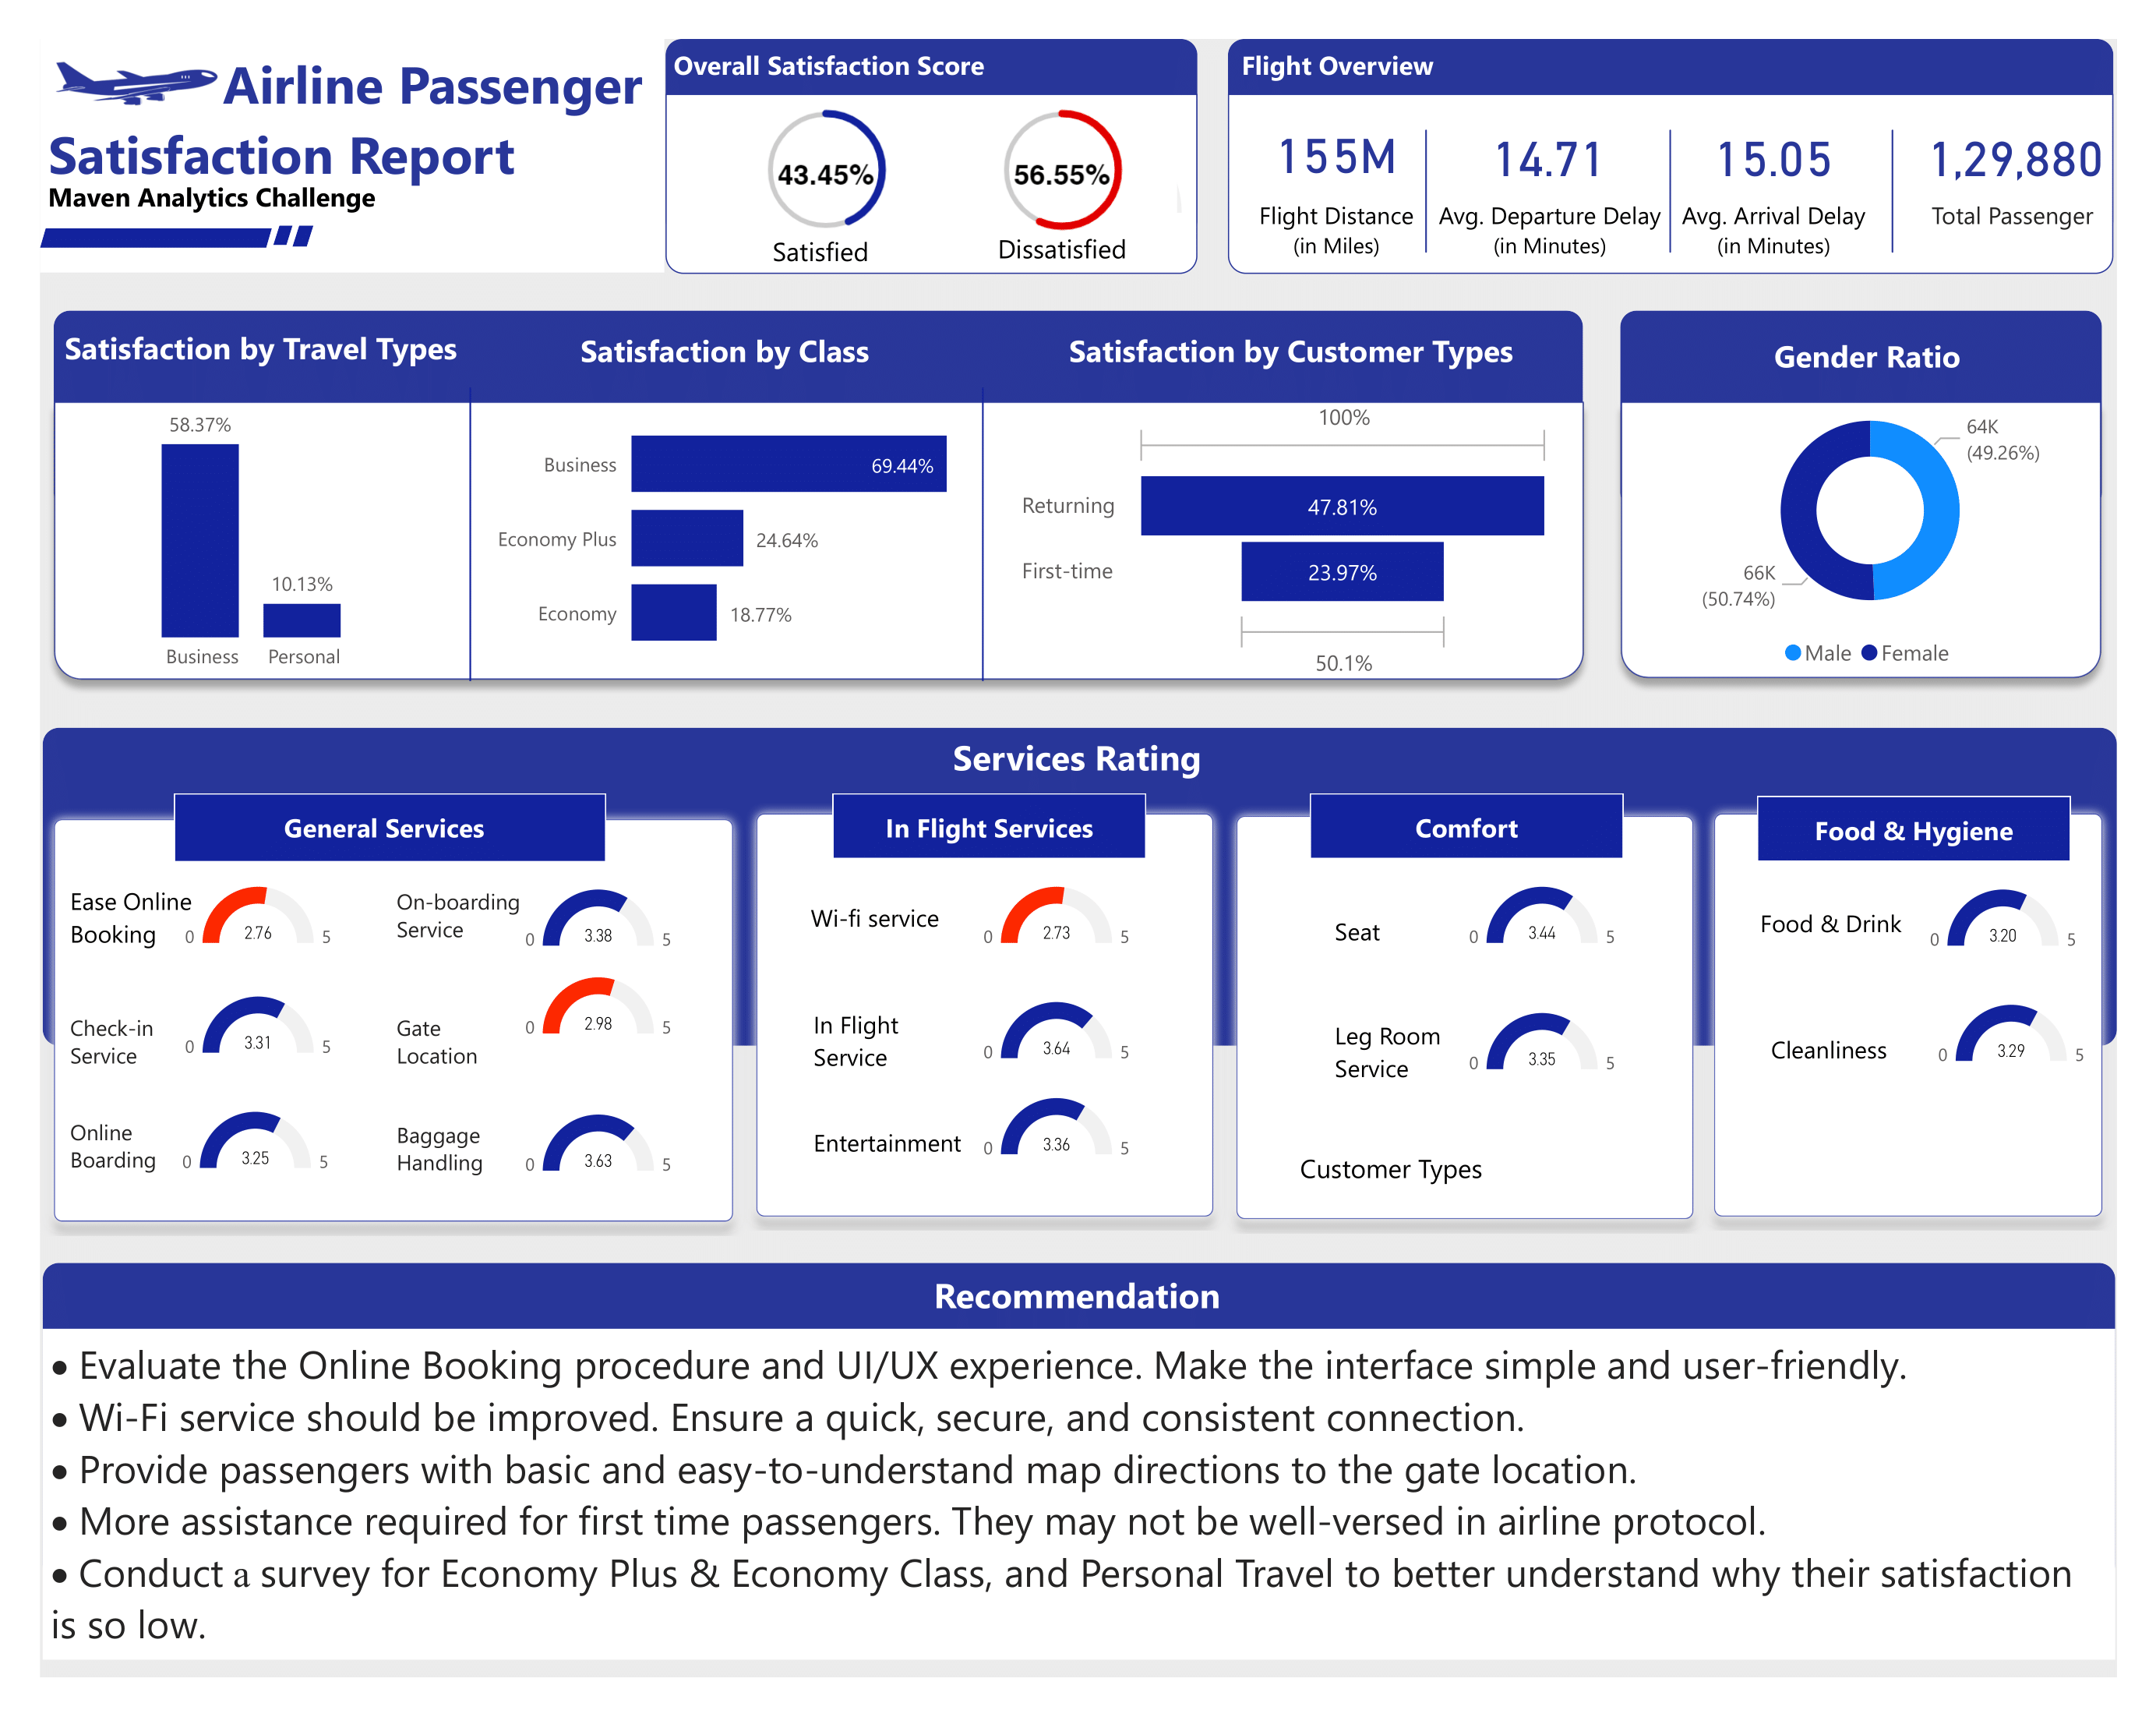

The dashboard page shown, as its layout file describes it:
{"tool":"powerbi","page":{"name":"Airline Passenger Satisfaction","canvas":[1280,1010],"ordinal":0},"visuals":[{"type":"shape","box":[732,0,546.4,122.2],"z":0,"group":"g6"},{"type":"shape","box":[9.3,168,943.3,121.6],"z":0,"group":"g5"},{"type":"shape","box":[974.2,168,297,121.8],"z":0,"group":"g9"},{"type":"shape","box":[1.2,423.8,1278.6,195.6],"z":0,"group":"g8"},{"type":"group","id":"g1","title":"Group 7","box":[0,465.4,436.4,272.1],"z":0,"group":"g17"},{"type":"shape","box":[1.9,753.8,1278.1,196],"z":0},{"type":"textbox","box":[0,0,385.3,144.1],"z":1000},{"type":"group","id":"g2","title":"Group 8","box":[433.7,465.4,299.5,269.7],"z":1000,"group":"g17"},{"type":"shape","box":[433.7,469.1,299.5,266],"z":1000,"group":"g2"},{"type":"shape","box":[385.1,0,327.6,122.2],"z":2000},{"type":"group","id":"g3","title":"Group 9","box":[728.8,465.4,299.5,270.9],"z":2000,"group":"g17"},{"type":"shape","box":[728.8,470.3,299.5,266],"z":2000,"group":"g3"},{"type":"textbox","box":[385.1,0,277.5,41.6],"z":3000},{"type":"group","id":"g4","title":"Group 10","box":[1023.2,466.6,256.7,268.4],"z":3000,"group":"g17"},{"type":"shape","box":[1023.2,469,256.7,266],"z":3000,"group":"g4"},{"type":"shape","box":[385.1,33,327.6,111.2],"z":4000},{"type":"shape","box":[0,471.5,436.4,266],"z":4000,"group":"g1"},{"type":"gauge","fields":{"Y":["Measures Tab.% of Pas_Satisfied"]},"box":[418.3,29.3,127.1,97.8],"z":5000},{"type":"textbox","box":[0,81.9,286,31.8],"z":6000},{"type":"group","id":"g5","title":"Group 1","box":[0,168,961,236.2],"z":7000},{"type":"gauge","fields":{"Y":["Measures Tab.% of Pas_Dissatisfied"]},"box":[582.1,29.3,127.1,97.8],"z":8000},{"type":"group","id":"g6","title":"Group 1","box":[732,0,546.5,144.2],"z":9000},{"type":"textbox","box":[213.9,662.4,143,45.2],"z":9000,"group":"g13"},{"type":"shape","box":[732.1,33,546.4,111.2],"z":10000,"group":"g6"},{"type":"card","fields":{"Values":["Measures Tab.Total Miles"]},"box":[735,38.7,129.6,62.3],"z":10000},{"type":"shape","box":[965.7,215.4,314.4,187.6],"z":10000,"group":"g9"},{"type":"shape","box":[0,215.6,961,188.7],"z":10000,"group":"g5"},{"type":"textbox","box":[735.9,92.9,127.1,51.3],"z":11000},{"type":"card","fields":{"Values":["Measures Tab.AvgInDpDelay"]},"box":[857.6,38.7,145.5,66],"z":12000},{"type":"group","id":"g7","title":"Group 2","box":[82.1,465.4,266.5,41.6],"z":12000,"group":"g1"},{"type":"textbox","box":[850.8,92.9,160.1,51.3],"z":13000},{"type":"card","fields":{"Values":["Measures Tab.AvgInAvDelay"]},"box":[996,38.7,145.5,66],"z":14000},{"type":"textbox","box":[982.8,92.9,172.4,51.3],"z":15000},{"type":"card","fields":{"Values":["Measures Tab.Total Passenger"]},"box":[1155.2,39.1,124.7,66],"z":16000},{"type":"textbox","box":[1151.5,92.9,128.4,51.3],"z":17000},{"type":"shape","box":[844.7,55,20.8,75.8],"z":18000},{"type":"shape","box":[995,55,20.8,75.8],"z":19000},{"type":"shape","box":[1132,55,20.8,75.8],"z":20000},{"type":"image","box":[0,0,118.6,55],"z":21000},{"type":"textbox","box":[735.9,0,144.2,41.6],"z":22000},{"type":"payPalKPIDonutChart55A431AB15A540ED924ACD72ED8D259F","fields":{"myvalue":["Measures Tab.% of Pas_Satisfied"]},"box":[412,33,144.2,94.1],"z":23000},{"type":"payPalKPIDonutChart55A431AB15A540ED924ACD72ED8D259F","fields":{"myvalue":["Measures Tab.% of Pas_Dissatisfied"]},"box":[552.5,33,152.8,94.1],"z":24000},{"type":"textbox","box":[418.1,114.9,127.1,33],"z":25000},{"type":"textbox","box":[566,113.7,127.1,33],"z":26000},{"type":"textbox","box":[10.3,172.2,268,44.3],"z":27000},{"type":"shape","box":[0,116,143,12],"z":28000},{"type":"shape","box":[144,115.2,12,12],"z":29000},{"type":"shape","box":[156,114.8,13,13],"z":30000},{"type":"group","id":"g8","title":"Group 12","box":[0,422.4,1279.9,315.1],"z":31000},{"type":"textbox","box":[1.7,795.6,1278.1,204.4],"z":32000},{"type":"textbox","box":[492.6,753.9,294.7,42.1],"z":33000},{"type":"shape","box":[259.1,214.8,12.5,180.7],"z":34000},{"type":"clusteredBarChart","fields":{"Category":["airline_passenger_satisfaction.Class"],"Y":["Measures Tab.% of Pas_Satisfied"]},"box":[271.4,212.8,336.7,182.6],"z":35000},{"type":"funnel","fields":{"Category":["airline_passenger_satisfaction.Customer Type"],"Y":["Measures Tab.% of Pas_Satisfied"]},"box":[600.8,216.1,336.7,182.6],"z":36000},{"type":"textbox","box":[471.6,665.8,149.1,33],"z":37000,"group":"g14"},{"type":"clusteredColumnChart","fields":{"Y":["Measures Tab.% of Pas_Satisfied"],"Category":["airline_passenger_satisfaction.Type of Travel"]},"box":[13.4,214.4,236.2,184.3],"z":38000},{"type":"textbox","box":[473,592.3,149.1,53.8],"z":38000,"group":"g14"},{"type":"textbox","box":[269.7,173.7,306.5,43.6],"z":39000},{"type":"textbox","box":[470.6,527.5,149.1,33],"z":39000,"group":"g14"},{"type":"textbox","box":[606.4,173.7,331.7,43.6],"z":40000},{"type":"shape","box":[82.1,465.4,266.5,41.6],"z":40000,"group":"g7"},{"type":"shape","box":[489.1,465.4,193.1,40.3],"z":40000,"group":"g10"},{"type":"shape","box":[782.8,465.4,193.1,40.3],"z":40000,"group":"g12"},{"type":"shape","box":[1058.6,466.6,193.1,40.3],"z":40000,"group":"g11"},{"type":"textbox","box":[792.4,597.6,145.5,50.1],"z":40000,"group":"g15"},{"type":"shape","box":[576.1,214.8,9.1,180.7],"z":41000},{"type":"textbox","box":[489.1,469.7,193.1,31.8],"z":41000,"group":"g10"},{"type":"textbox","box":[782.8,469.7,193.1,31.8],"z":41000,"group":"g12"},{"type":"textbox","box":[83.3,470.3,255.5,33],"z":41000,"group":"g7"},{"type":"textbox","box":[1058.6,470.9,193.1,31.8],"z":41000,"group":"g11"},{"type":"textbox","box":[792.4,534,149.1,33],"z":41000,"group":"g15"},{"type":"group","id":"g9","title":"Group 1","box":[965.7,168,314.4,235.1],"z":42000},{"type":"textbox","box":[1055,528.9,149.1,33],"z":42000,"group":"g16"},{"type":"donutChart","fields":{"Category":["airline_passenger_satisfaction.Gender"],"Y":["Measures Tab.Total Passenger"]},"box":[993.3,212.7,271.4,184.3],"z":43000},{"type":"textbox","box":[1061.1,608.4,149.1,33],"z":43000,"group":"g16"},{"type":"textbox","box":[974.9,177.6,304.9,43.6],"z":44000},{"type":"textbox","box":[214.3,517.6,150.4,51.3],"z":44000,"group":"g13"},{"type":"textbox","box":[213.9,596.2,144.2,45.2],"z":45000,"group":"g13"},{"type":"textbox","box":[13.4,659.5,150.4,48.9],"z":46000,"group":"g13"},{"type":"textbox","box":[492.8,422.4,294.6,41.6],"z":52000,"group":"g8"},{"type":"textbox","box":[13.1,596.2,150.4,45.2],"z":55000,"group":"g13"},{"type":"group","id":"g10","title":"Group 2","box":[489.1,465.4,193.1,40.3],"z":59000,"group":"g2"},{"type":"gauge","fields":{"Y":["Measures Tab.AvgEaseofBooking"]},"box":[79.4,516.5,110,52.6],"z":60000,"group":"g13"},{"type":"gauge","fields":{"Y":["Measures Tab.AvgCheck-inService"]},"box":[79.1,584,110,52.6],"z":61000,"group":"g13"},{"type":"gauge","fields":{"Y":["Measures Tab.AvgOnlineBoarding"]},"box":[78.2,655.9,110,52.6],"z":62000,"group":"g13"},{"type":"group","id":"g11","title":"Group 2","box":[1058.6,466.6,193.1,40.3],"z":63000,"group":"g4"},{"type":"gauge","fields":{"Y":["Measures Tab.OnBoardService"]},"box":[289.7,517.9,110,52.6],"z":64000,"group":"g13"},{"type":"gauge","fields":{"Y":["Measures Tab.AvgGateLocation"]},"box":[289.7,573,110,52.6],"z":65000,"group":"g13"},{"type":"gauge","fields":{"Y":["Measures Tab.AvgBaggageHandling"]},"box":[289.7,656.1,110,52.6],"z":66000,"group":"g13"},{"type":"gauge","fields":{"Y":["Measures Tab.AvgInFlightWifi"]},"box":[571.8,516.7,110,52.6],"z":67000,"group":"g14"},{"type":"gauge","fields":{"Y":["Measures Tab.AvgInFlightService"]},"box":[571.8,587.6,110,52.6],"z":68000,"group":"g14"},{"type":"gauge","fields":{"Y":["Measures Tab.AvgInFlightEntertainment"]},"box":[571.8,647.5,110,52.6],"z":69000,"group":"g14"},{"type":"group","id":"g12","title":"Group 2","box":[782.8,465.4,193.1,40.3],"z":70000,"group":"g3"},{"type":"gauge","fields":{"Y":["Measures Tab.AvgSeatComfort"]},"box":[870.6,515.5,110,52.6],"z":71000,"group":"g15"},{"type":"gauge","fields":{"Y":["Measures Tab.AvgLegRoomService"]},"box":[870.6,592.5,110,52.6],"z":72000,"group":"g15"},{"type":"gauge","fields":{"Y":["Measures Tab.AvgFood&Drink"]},"box":[1155.2,517.9,110,52.6],"z":73000,"group":"g16"},{"type":"gauge","fields":{"Y":["Measures Tab.AvgCleanliness"]},"box":[1160.1,588.8,110,52.6],"z":74000,"group":"g16"},{"type":"textbox","box":[13.3,516.5,150.4,51.3],"z":75000,"group":"g13"},{"type":"group","id":"g13","title":"Group 3","box":[13.1,516.5,386.6,192.1],"z":79001,"group":"g1"},{"type":"group","id":"g14","title":"Group 4","box":[470.6,516.7,211.3,183.4],"z":79002,"group":"g2"},{"type":"group","id":"g15","title":"Group 5","box":[792.4,515.5,188.2,132.2],"z":79003,"group":"g3"},{"type":"group","id":"g16","title":"Group 6","box":[1055,517.9,215.1,123.5],"z":79004,"group":"g4"},{"type":"group","id":"g17","title":"Group 11","box":[0,465.4,1279.9,272.1],"z":79009,"group":"g8"}]}

Visuals, with their boxes on the page's 1280x1010 design canvas (x1, y1, x2, y2). These are canvas units, not pixel positions in the 2156x1717 screenshot, which may show the page scaled, cropped or inside an application window:
shape: {"left": 732, "top": 0, "right": 1278, "bottom": 122}
shape: {"left": 9, "top": 168, "right": 953, "bottom": 290}
shape: {"left": 974, "top": 168, "right": 1271, "bottom": 290}
shape: {"left": 1, "top": 424, "right": 1280, "bottom": 619}
"Group 7" group: {"left": 0, "top": 465, "right": 436, "bottom": 738}
shape: {"left": 2, "top": 754, "right": 1280, "bottom": 950}
textbox: {"left": 0, "top": 0, "right": 385, "bottom": 144}
"Group 8" group: {"left": 434, "top": 465, "right": 733, "bottom": 735}
shape: {"left": 434, "top": 469, "right": 733, "bottom": 735}
shape: {"left": 385, "top": 0, "right": 713, "bottom": 122}
"Group 9" group: {"left": 729, "top": 465, "right": 1028, "bottom": 736}
shape: {"left": 729, "top": 470, "right": 1028, "bottom": 736}
textbox: {"left": 385, "top": 0, "right": 663, "bottom": 42}
"Group 10" group: {"left": 1023, "top": 467, "right": 1280, "bottom": 735}
shape: {"left": 1023, "top": 469, "right": 1280, "bottom": 735}
shape: {"left": 385, "top": 33, "right": 713, "bottom": 144}
shape: {"left": 0, "top": 472, "right": 436, "bottom": 738}
gauge - Measures Tab.% of Pas_Satisfied: {"left": 418, "top": 29, "right": 545, "bottom": 127}
textbox: {"left": 0, "top": 82, "right": 286, "bottom": 114}
"Group 1" group: {"left": 0, "top": 168, "right": 961, "bottom": 404}
gauge - Measures Tab.% of Pas_Dissatisfied: {"left": 582, "top": 29, "right": 709, "bottom": 127}
"Group 1" group: {"left": 732, "top": 0, "right": 1278, "bottom": 144}
textbox: {"left": 214, "top": 662, "right": 357, "bottom": 708}
shape: {"left": 732, "top": 33, "right": 1278, "bottom": 144}
card - Measures Tab.Total Miles: {"left": 735, "top": 39, "right": 865, "bottom": 101}
shape: {"left": 966, "top": 215, "right": 1280, "bottom": 403}
shape: {"left": 0, "top": 216, "right": 961, "bottom": 404}
textbox: {"left": 736, "top": 93, "right": 863, "bottom": 144}
card - Measures Tab.AvgInDpDelay: {"left": 858, "top": 39, "right": 1003, "bottom": 105}
"Group 2" group: {"left": 82, "top": 465, "right": 349, "bottom": 507}
textbox: {"left": 851, "top": 93, "right": 1011, "bottom": 144}
card - Measures Tab.AvgInAvDelay: {"left": 996, "top": 39, "right": 1142, "bottom": 105}
textbox: {"left": 983, "top": 93, "right": 1155, "bottom": 144}
card - Measures Tab.Total Passenger: {"left": 1155, "top": 39, "right": 1280, "bottom": 105}
textbox: {"left": 1152, "top": 93, "right": 1280, "bottom": 144}
shape: {"left": 845, "top": 55, "right": 866, "bottom": 131}
shape: {"left": 995, "top": 55, "right": 1016, "bottom": 131}
shape: {"left": 1132, "top": 55, "right": 1153, "bottom": 131}
image: {"left": 0, "top": 0, "right": 119, "bottom": 55}
textbox: {"left": 736, "top": 0, "right": 880, "bottom": 42}
payPalKPIDonutChart55A431AB15A540ED924ACD72ED8D259F - Measures Tab.% of Pas_Satisfied: {"left": 412, "top": 33, "right": 556, "bottom": 127}
payPalKPIDonutChart55A431AB15A540ED924ACD72ED8D259F - Measures Tab.% of Pas_Dissatisfied: {"left": 552, "top": 33, "right": 705, "bottom": 127}
textbox: {"left": 418, "top": 115, "right": 545, "bottom": 148}
textbox: {"left": 566, "top": 114, "right": 693, "bottom": 147}
textbox: {"left": 10, "top": 172, "right": 278, "bottom": 216}
shape: {"left": 0, "top": 116, "right": 143, "bottom": 128}
shape: {"left": 144, "top": 115, "right": 156, "bottom": 127}
shape: {"left": 156, "top": 115, "right": 169, "bottom": 128}
"Group 12" group: {"left": 0, "top": 422, "right": 1280, "bottom": 738}
textbox: {"left": 2, "top": 796, "right": 1280, "bottom": 1000}
textbox: {"left": 493, "top": 754, "right": 787, "bottom": 796}
shape: {"left": 259, "top": 215, "right": 272, "bottom": 396}
clusteredBarChart - airline_passenger_satisfaction.Class x Measures Tab.% of Pas_Satisfied: {"left": 271, "top": 213, "right": 608, "bottom": 395}
funnel - airline_passenger_satisfaction.Customer Type x Measures Tab.% of Pas_Satisfied: {"left": 601, "top": 216, "right": 938, "bottom": 399}
textbox: {"left": 472, "top": 666, "right": 621, "bottom": 699}
clusteredColumnChart - Measures Tab.% of Pas_Satisfied x airline_passenger_satisfaction.Type of Travel: {"left": 13, "top": 214, "right": 250, "bottom": 399}
textbox: {"left": 473, "top": 592, "right": 622, "bottom": 646}
textbox: {"left": 270, "top": 174, "right": 576, "bottom": 217}
textbox: {"left": 471, "top": 528, "right": 620, "bottom": 560}
textbox: {"left": 606, "top": 174, "right": 938, "bottom": 217}
shape: {"left": 82, "top": 465, "right": 349, "bottom": 507}
shape: {"left": 489, "top": 465, "right": 682, "bottom": 506}
shape: {"left": 783, "top": 465, "right": 976, "bottom": 506}
shape: {"left": 1059, "top": 467, "right": 1252, "bottom": 507}
textbox: {"left": 792, "top": 598, "right": 938, "bottom": 648}
shape: {"left": 576, "top": 215, "right": 585, "bottom": 396}
textbox: {"left": 489, "top": 470, "right": 682, "bottom": 502}
textbox: {"left": 783, "top": 470, "right": 976, "bottom": 502}
textbox: {"left": 83, "top": 470, "right": 339, "bottom": 503}
textbox: {"left": 1059, "top": 471, "right": 1252, "bottom": 503}
textbox: {"left": 792, "top": 534, "right": 942, "bottom": 567}
"Group 1" group: {"left": 966, "top": 168, "right": 1280, "bottom": 403}
textbox: {"left": 1055, "top": 529, "right": 1204, "bottom": 562}
donutChart - airline_passenger_satisfaction.Gender x Measures Tab.Total Passenger: {"left": 993, "top": 213, "right": 1265, "bottom": 397}
textbox: {"left": 1061, "top": 608, "right": 1210, "bottom": 641}
textbox: {"left": 975, "top": 178, "right": 1280, "bottom": 221}
textbox: {"left": 214, "top": 518, "right": 365, "bottom": 569}
textbox: {"left": 214, "top": 596, "right": 358, "bottom": 641}
textbox: {"left": 13, "top": 660, "right": 164, "bottom": 708}
textbox: {"left": 493, "top": 422, "right": 787, "bottom": 464}
textbox: {"left": 13, "top": 596, "right": 164, "bottom": 641}
"Group 2" group: {"left": 489, "top": 465, "right": 682, "bottom": 506}
gauge - Measures Tab.AvgEaseofBooking: {"left": 79, "top": 516, "right": 189, "bottom": 569}
gauge - Measures Tab.AvgCheck-inService: {"left": 79, "top": 584, "right": 189, "bottom": 637}
gauge - Measures Tab.AvgOnlineBoarding: {"left": 78, "top": 656, "right": 188, "bottom": 708}
"Group 2" group: {"left": 1059, "top": 467, "right": 1252, "bottom": 507}
gauge - Measures Tab.OnBoardService: {"left": 290, "top": 518, "right": 400, "bottom": 570}
gauge - Measures Tab.AvgGateLocation: {"left": 290, "top": 573, "right": 400, "bottom": 626}
gauge - Measures Tab.AvgBaggageHandling: {"left": 290, "top": 656, "right": 400, "bottom": 709}
gauge - Measures Tab.AvgInFlightWifi: {"left": 572, "top": 517, "right": 682, "bottom": 569}
gauge - Measures Tab.AvgInFlightService: {"left": 572, "top": 588, "right": 682, "bottom": 640}
gauge - Measures Tab.AvgInFlightEntertainment: {"left": 572, "top": 648, "right": 682, "bottom": 700}
"Group 2" group: {"left": 783, "top": 465, "right": 976, "bottom": 506}
gauge - Measures Tab.AvgSeatComfort: {"left": 871, "top": 516, "right": 981, "bottom": 568}
gauge - Measures Tab.AvgLegRoomService: {"left": 871, "top": 592, "right": 981, "bottom": 645}
gauge - Measures Tab.AvgFood&Drink: {"left": 1155, "top": 518, "right": 1265, "bottom": 570}
gauge - Measures Tab.AvgCleanliness: {"left": 1160, "top": 589, "right": 1270, "bottom": 641}
textbox: {"left": 13, "top": 516, "right": 164, "bottom": 568}
"Group 3" group: {"left": 13, "top": 516, "right": 400, "bottom": 709}
"Group 4" group: {"left": 471, "top": 517, "right": 682, "bottom": 700}
"Group 5" group: {"left": 792, "top": 516, "right": 981, "bottom": 648}
"Group 6" group: {"left": 1055, "top": 518, "right": 1270, "bottom": 641}
"Group 11" group: {"left": 0, "top": 465, "right": 1280, "bottom": 738}
